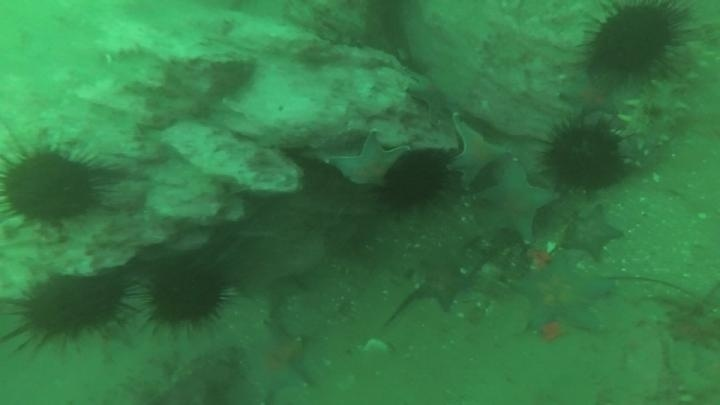echinus: (10, 268, 135, 349), (1, 142, 105, 232), (584, 2, 690, 81), (141, 257, 232, 331), (541, 120, 628, 194), (378, 147, 451, 214)
holothurian: (617, 71, 694, 171)
starfish: (511, 253, 614, 343), (474, 161, 558, 247), (239, 321, 315, 402), (326, 130, 411, 191), (446, 118, 511, 192), (410, 251, 476, 313), (662, 286, 720, 352), (562, 203, 625, 262), (557, 72, 618, 121), (406, 77, 456, 122)
